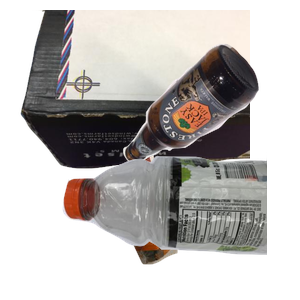cardboard: (18, 10, 258, 171)
glass: (120, 41, 300, 196)
plastic: (60, 152, 300, 300)
trash: (69, 153, 239, 300)
